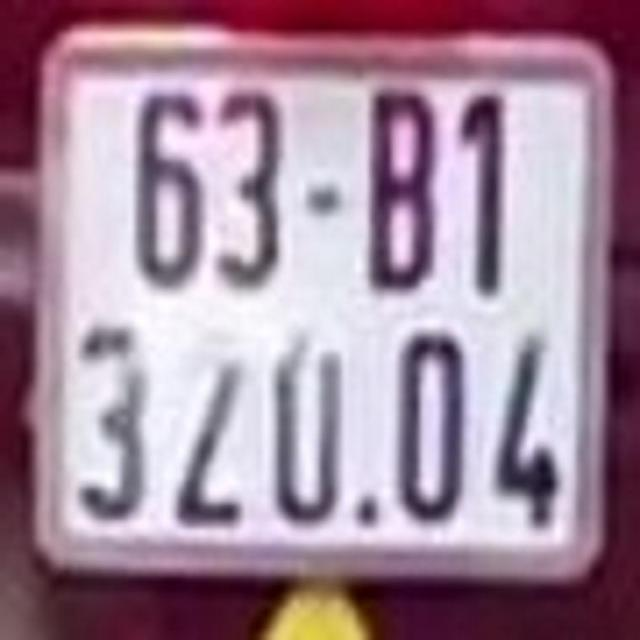0: (393, 310, 472, 534), (272, 312, 348, 527)
1: (459, 70, 526, 302)
2: (173, 311, 254, 531)
3: (215, 59, 291, 295), (78, 315, 148, 528)
4: (494, 309, 564, 538)
6: (125, 66, 207, 293)
B: (351, 64, 445, 303)
